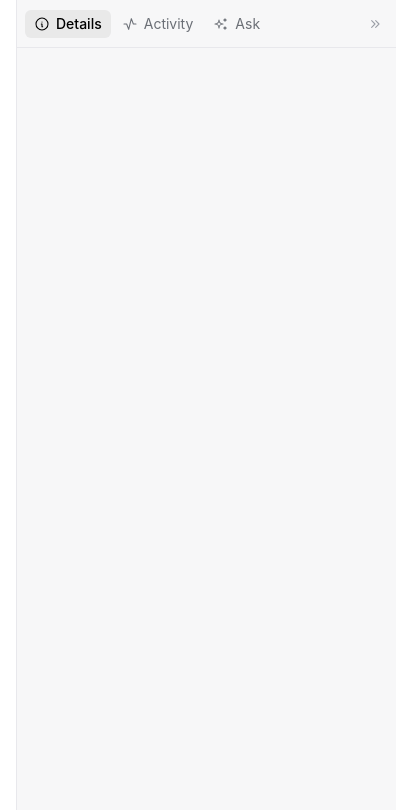
it: ask state across navigation › keeps the draft and follows the page for context chips
Later steps or results of the test are not shown.
Click the tab "Ask" at (237, 24), box x1=204 y1=10 x2=269 y2=38
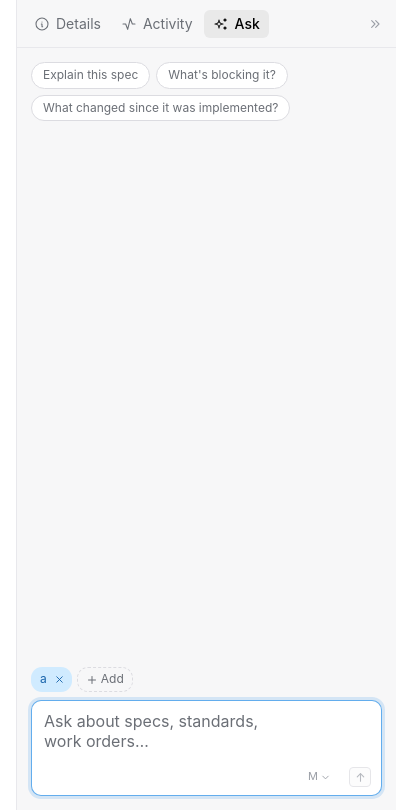
Type "why?" into the text box named "Question" at (169, 741), box x1=44 y1=711 x2=294 y2=771
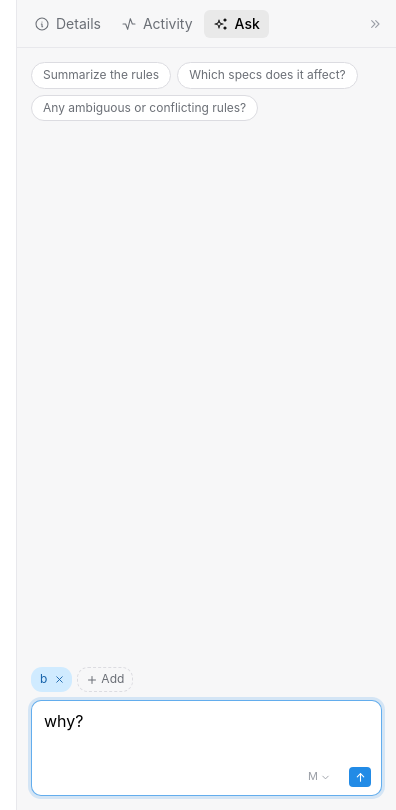
Result: the element with class "ask-chip" is shown at x1=31 y1=667 x2=72 y2=692
